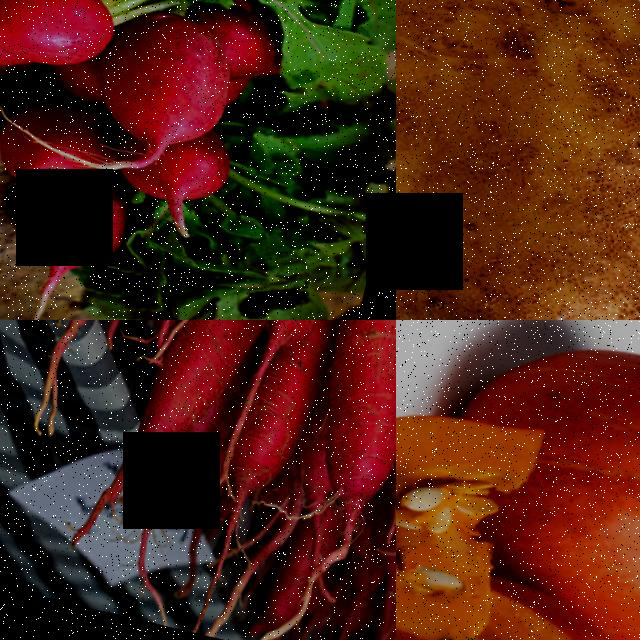potato: (396, 0, 640, 320)
pumpkin: (499, 329, 640, 640), (396, 372, 544, 640)
radishes: (0, 0, 352, 320), (285, 320, 396, 537)
